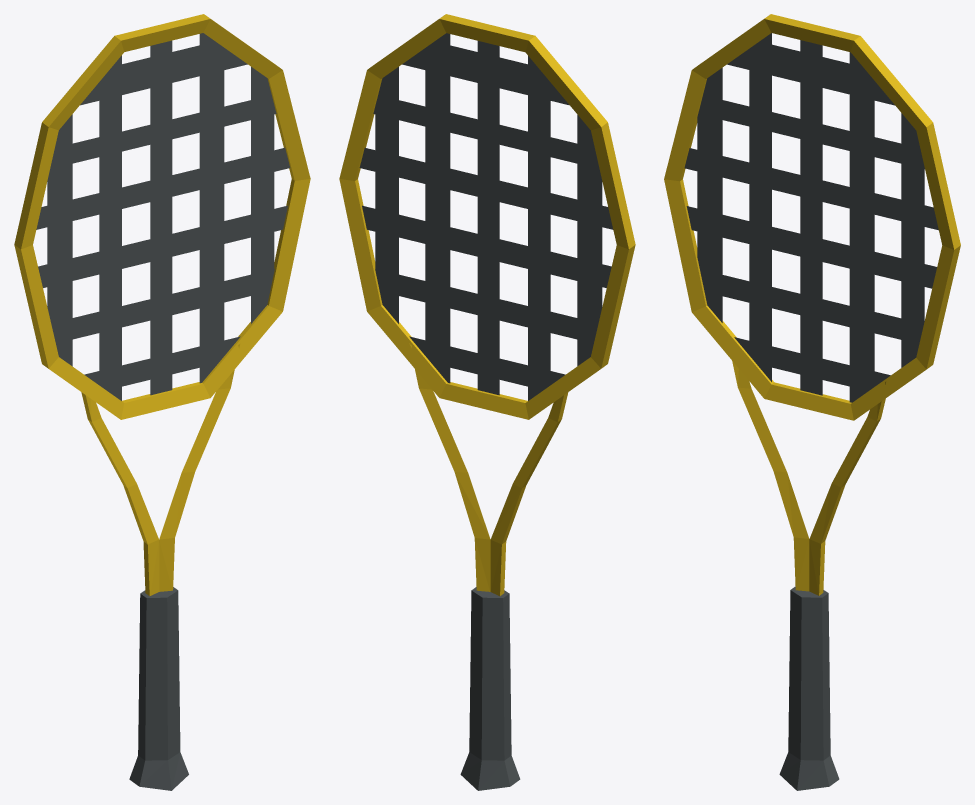
The model's file is Badminton_racket_green002.fbx.
3 views of the same model, side by side, from view 1: azimuth 30°, elevation 25°; view 2: azimuth 150°, elevation 25°; view 3: azimuth 330°, elevation 25° (orthographic).
Visible parts, largest first — view 1: Badminton_racket_green002; view 2: Badminton_racket_green002; view 3: Badminton_racket_green002.
Boxes of the visible parts, x1,y1,x2,y2 form: Badminton_racket_green002: (14,14,310,790); Badminton_racket_green002: (339,14,635,790); Badminton_racket_green002: (664,14,960,790).
Size of the model in its own units: 26.05 by 64.78 by 3.86.
